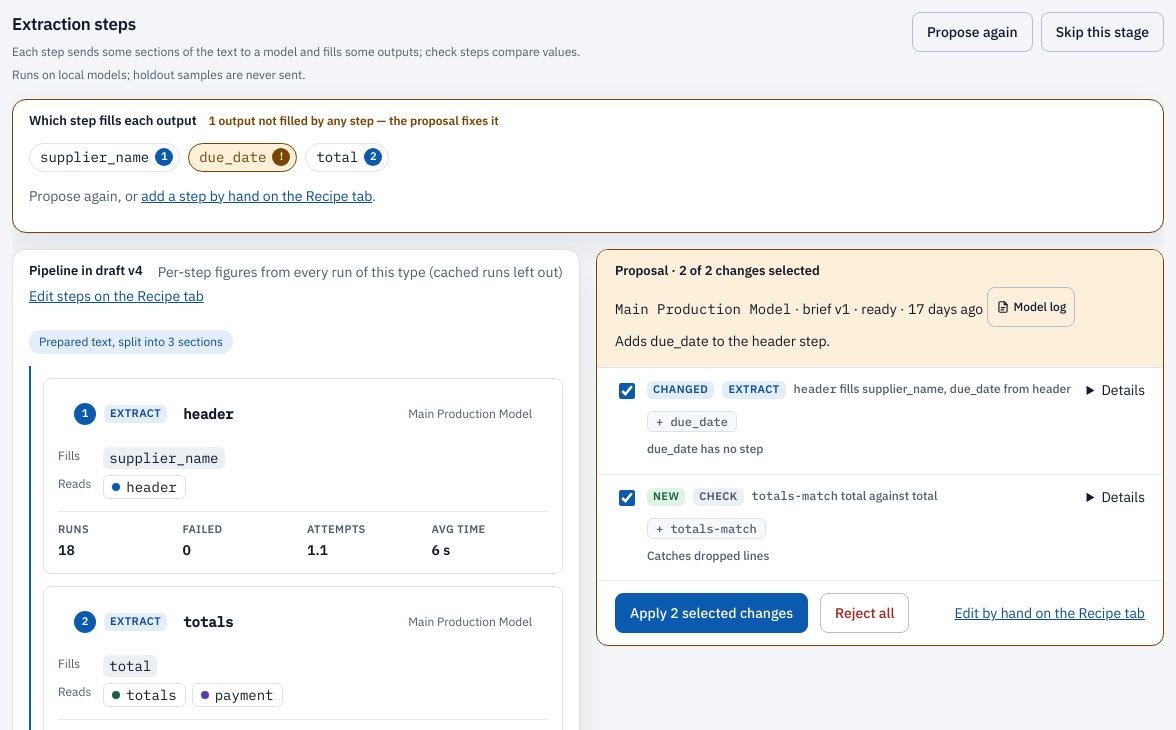
Test: Steps tab › marks the steps the proposal added and turns coverage green once applied
Click the button "Apply 2 selected changes".
click(712, 613)  # box 615,593 -> 808,633
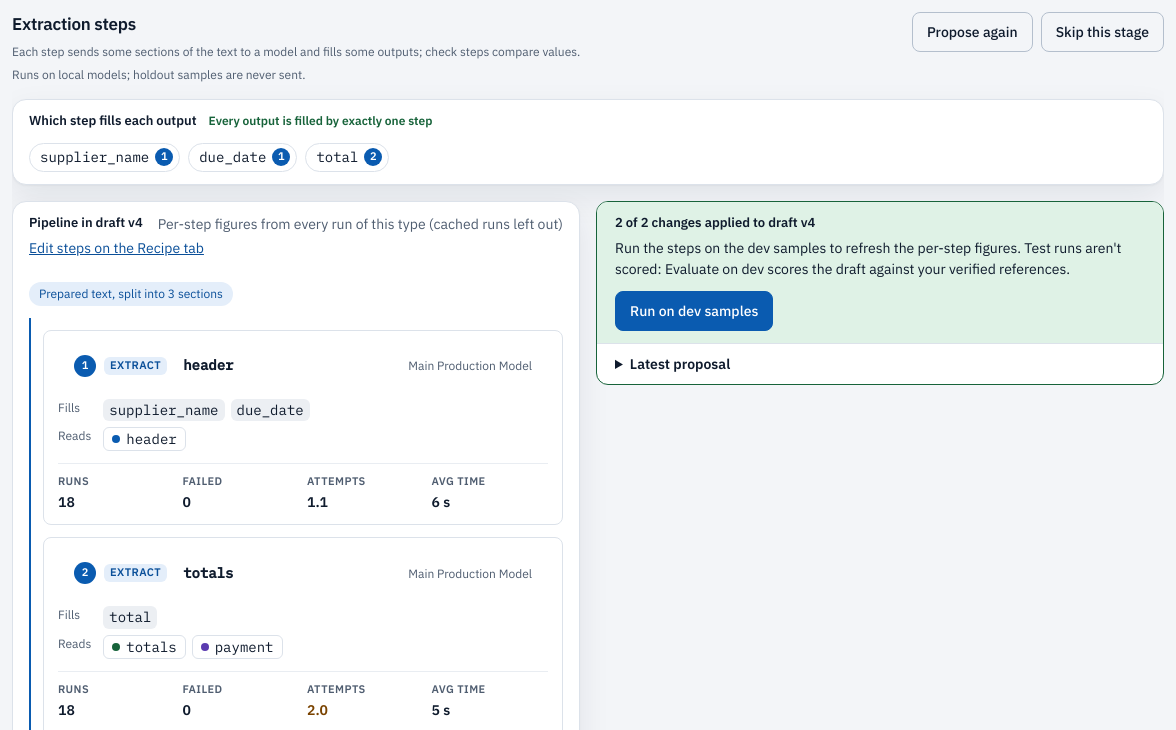
Now the text "Every output is filled by exactly one step" is shown, box 208,112 -> 432,130
Now the heading "2 of 2 changes applied to draft v4" is shown, box 615,214 -> 815,231
